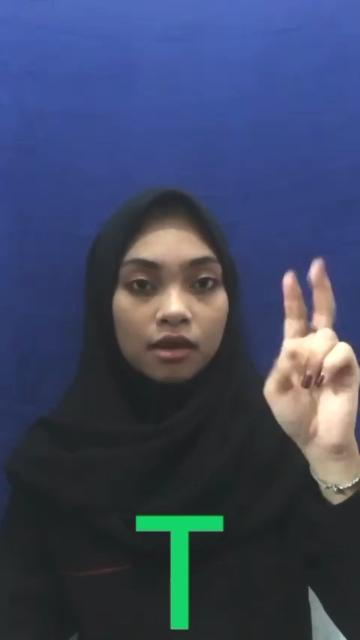U: (258, 260, 360, 462)
